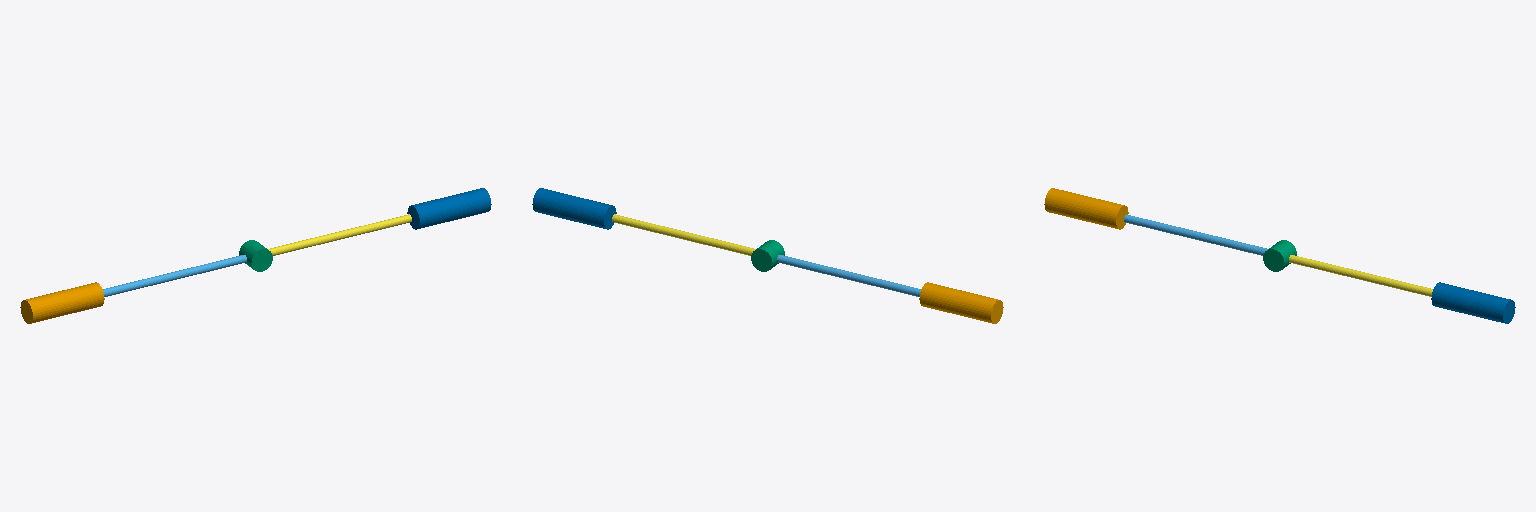
robot.urdf — nunchaku:
<?xml version="1.0"?>
<robot name="nunchaku">
 <link name="link1">
  <inertial>
    <mass value="1"/>
    <inertia ixx="0.00355833333333" ixy="0" ixz="0" iyy="0.00355833333333" iyz="0" izz="0.000225"/>
  </inertial>
  <visual>
    <origin rpy="0 1.57 0" xyz="-0.31 0 0"/>
    <geometry>
      <cylinder length="0.2" radius="0.03"/>
    </geometry>
  </visual>
  <collision>
    <origin rpy="0 1.57 0" xyz="-0.31 0 0"/>
    <geometry>
      <cylinder length="0.2" radius="0.03"/>
    </geometry>
  </collision>
 </link>

<joint name="joint_link1_connector" type="fixed">
  <origin rpy="0 0 0" xyz="0 0 0"/>
  <parent link="link1"/>
  <child link="connector"/>
</joint>

 <link name="connector">
  <inertial>
    <mass value="1"/>
    <inertia ixx="0.0133583333333" ixy="0" ixz="0" iyy="0.0133583333333" iyz="0" izz="2.5e-05"/>
  </inertial>
  <visual>
    <origin rpy="0 1.57 0" xyz="0 0 0"/>
    <geometry>
      <cylinder length="0.4" radius="0.01"/>
    </geometry>
  </visual>
  <collision>
    <origin rpy="0 1.57 0" xyz="0 0 0"/>
    <geometry>
      <cylinder length="0.4" radius="0.01"/>
    </geometry>
  </collision>
 </link>

<joint name="joint_connector_hinge" type="fixed">
  <origin rpy="0 0 0" xyz="0 0 0"/>
  <parent link="connector"/>
  <child link="hinge"/>
</joint>

 <link name="hinge">
  <inertial>
    <mass value="1"/>
    <inertia ixx="0.000525" ixy="0" ixz="0" iyy="0.000525" iyz="0" izz="0.000225"/>
  </inertial>
  <visual>
    <origin rpy="1.57 0 0" xyz="0.23 0 0"/>
    <geometry>
      <cylinder length="0.06" radius="0.03"/>
    </geometry>
  </visual>
  <collision>
    <origin rpy="1.57 0 0" xyz="0.23 0 0"/>
    <geometry>
      <cylinder length="0.06" radius="0.03"/>
    </geometry>
  </collision>
 </link>

<joint name="joint_revolute_Z" type="revolute">
  <origin rpy="0 0 0" xyz="0.23 0 0"/>
  <parent link="hinge"/>
  <child link="connector2"/>
  <axis xyz="0 1 0"/>
  <dynamics damping="1" friction="10"/>
  <limit lower="-2.99" upper="2.99" effort="1" velocity="100"/>
</joint>

 <link name="connector2">
  <inertial>
    <mass value="1"/>
    <inertia ixx="0.0133583333333" ixy="0" ixz="0" iyy="0.0133583333333" iyz="0" izz="2.5e-05"/>
  </inertial>
  <visual>
    <origin rpy="0 1.57 0" xyz="0.23 0 0"/>
    <geometry>
      <cylinder length="0.4" radius="0.01"/>
    </geometry>
  </visual>
  <collision>
    <origin rpy="0 1.57 0" xyz="0.23 0 0"/>
    <geometry>
      <cylinder length="0.4" radius="0.01"/>
    </geometry>
  </collision>
 </link>

<joint name="joint_connector2_link2" type="fixed">
  <origin rpy="0 0 0" xyz="0 0 0"/>
  <parent link="connector2"/>
  <child link="link2"/>
</joint>

 <link name="link2">
  <inertial>
    <mass value="1"/>
    <inertia ixx="0.00355833333333" ixy="0" ixz="0" iyy="0.00355833333333" iyz="0" izz="0.000225"/>
  </inertial>
  <visual>
    <origin rpy="0 1.57 0" xyz="0.54 0 0"/>
    <geometry>
      <cylinder length="0.2" radius="0.03"/>
    </geometry>
  </visual>
  <collision>
    <origin rpy="0 1.57 0" xyz="0.54 0 0"/>
    <geometry>
      <cylinder length="0.2" radius="0.03"/>
    </geometry>
  </collision>
 </link>

  <klampt package_root="../../.." default_acc_max="4" >
    <noselfcollision pairs="hinge link2"/>
    <noselfcollision pairs="hinge link1"/>
    <noselfcollision pairs="connector link1"/>
    <noselfcollision pairs="connector link2"/>
    <noselfcollision pairs="connector hinge"/>
    <noselfcollision pairs="connector2 link1"/>
    <noselfcollision pairs="connector2 link2"/>
    <noselfcollision pairs="connector2 hinge"/>
  </klampt>
</robot>

--- Facts derived from the render (not from the file) ---
The picture shows the robot from 3 angles, left to right: view 1: azimuth 30°, elevation 25°; view 2: azimuth 150°, elevation 25°; view 3: azimuth 330°, elevation 25°; orthographic projection.
Robot: nunchaku — 5 links, 4 joints (1 revolute, 3 fixed); root link link1; default pose: all joints at 0.
Visible links, largest first — view 1: link1, link2, connector, connector2, hinge; view 2: link1, link2, connector, connector2, hinge; view 3: link2, link1, connector2, connector, hinge.
Link boxes in pixels (x1,y1,x2,y2): link1: (20,282,104,323); link2: (407,188,491,229); connector: (103,255,246,296); connector2: (268,214,411,255); hinge: (239,240,272,271); link1: (919,282,1003,323); link2: (532,188,616,229); connector: (777,255,920,296); connector2: (612,214,755,255); hinge: (751,240,784,271); link2: (1431,282,1515,323); link1: (1044,188,1128,229); connector2: (1289,255,1432,296); connector: (1124,214,1267,255); hinge: (1263,240,1296,271).
Size in the robot's own frame: 1.28 by 0.06 by 0.0602 metres.
Geometry: primitives only (box / cylinder / sphere), no mesh files.
